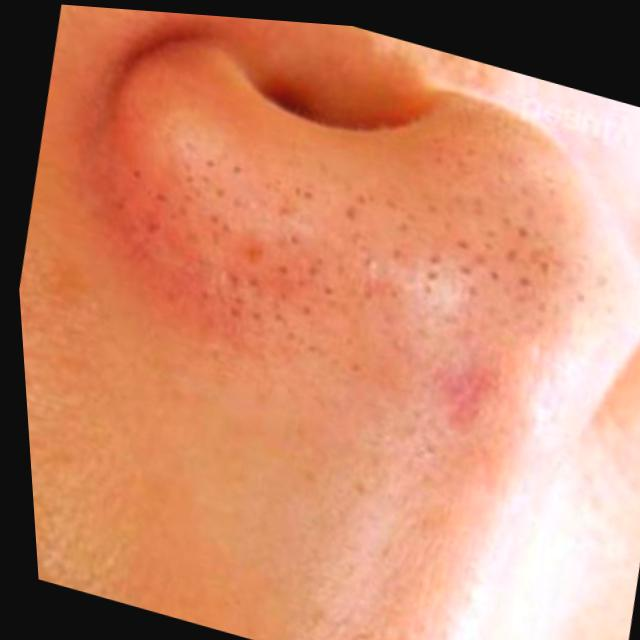blackhead: (117, 137, 640, 374)
